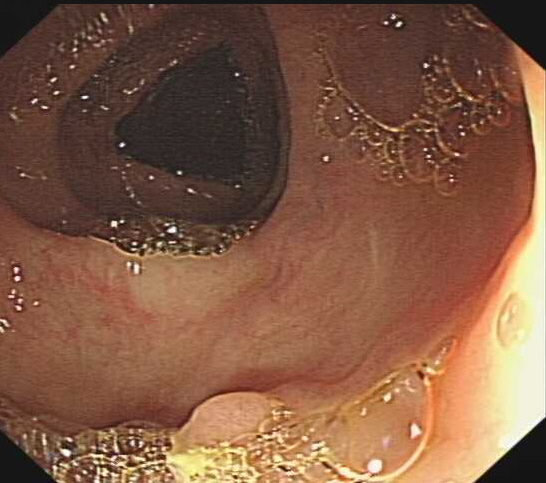others: (176, 388, 273, 445)
